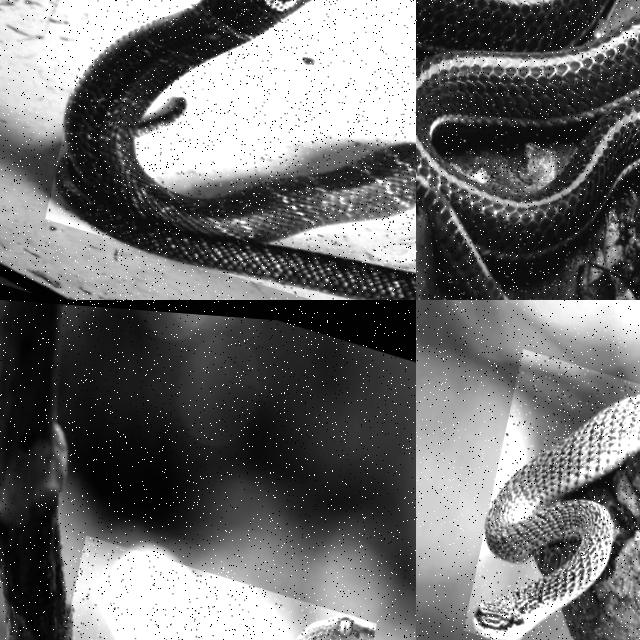Calliophis intestinalis: (416, 0, 639, 299)
Chrysopelea ornata: (474, 395, 639, 639)
Naja kaouthia: (55, 0, 415, 299)
Trimeresurus macrops: (292, 613, 373, 639)
